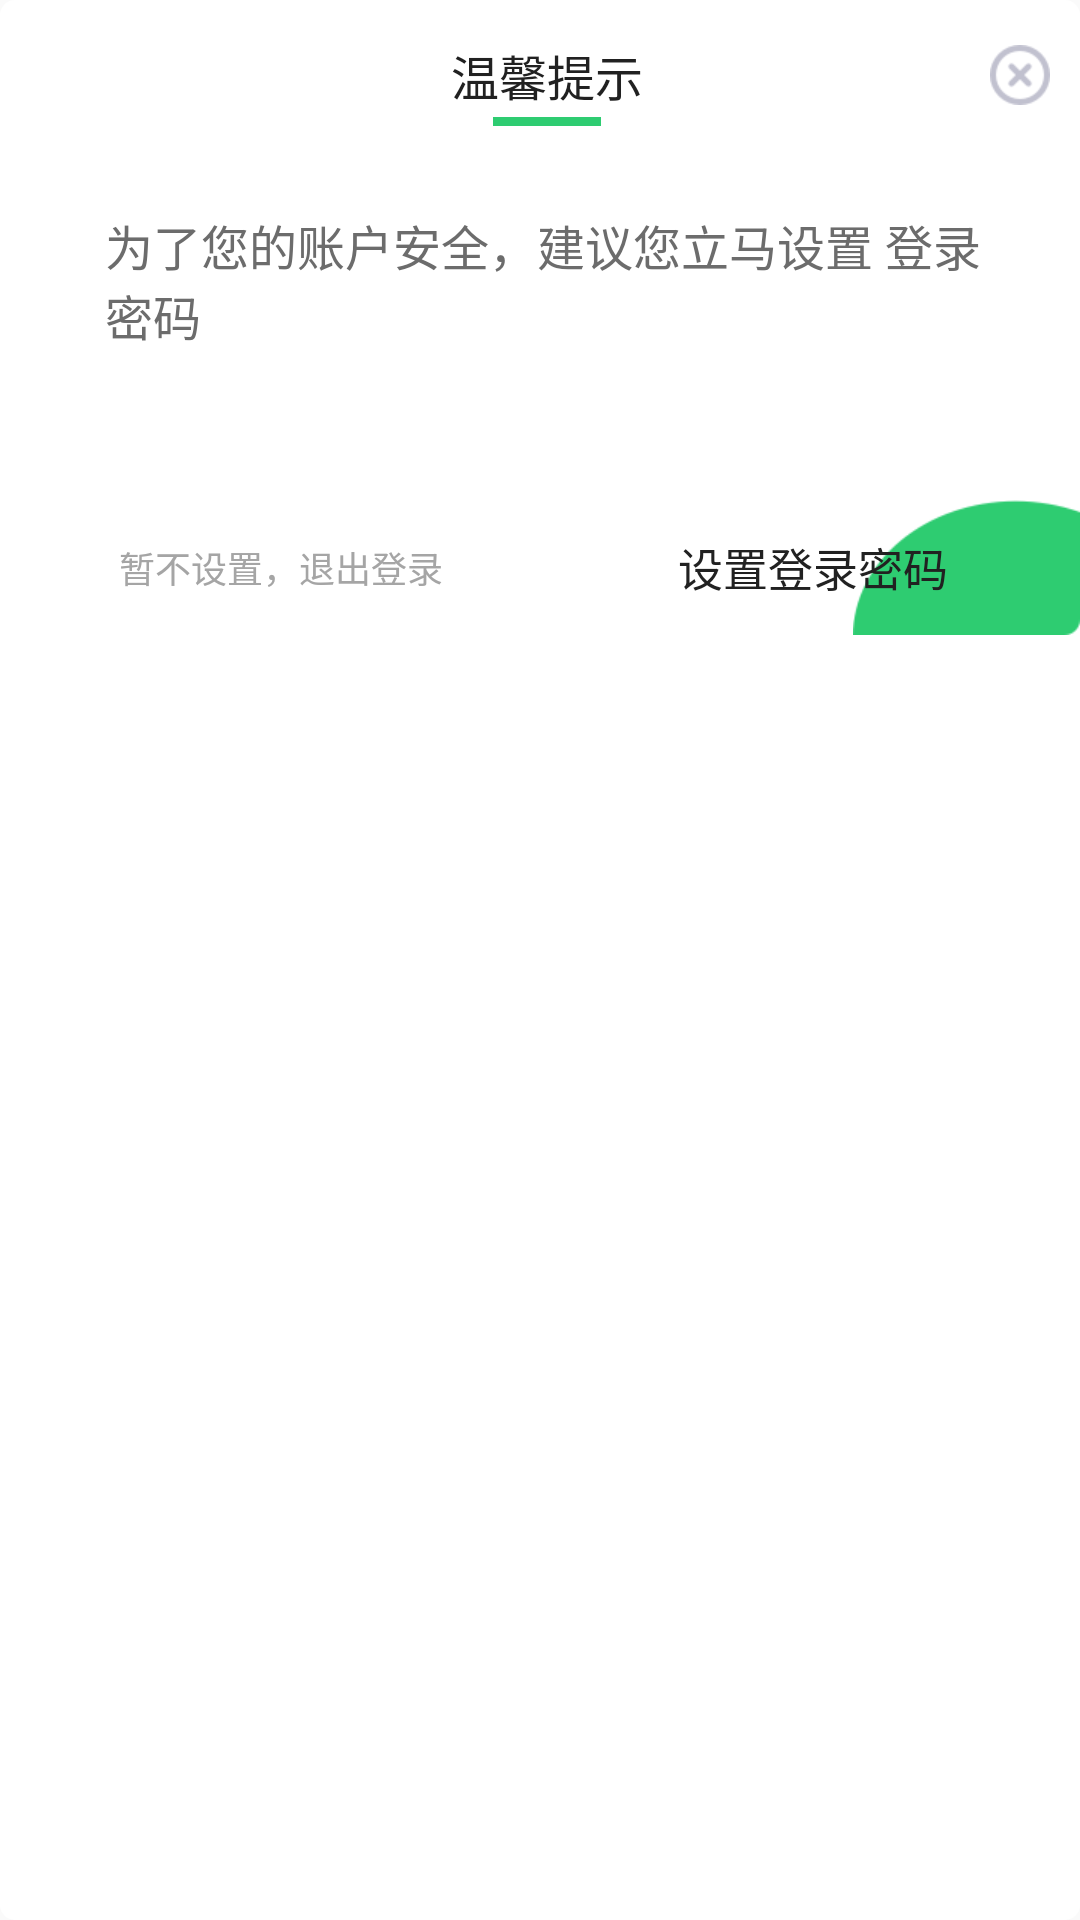

Where icons sit on this 1080 × 1920 app screen, as (x1, y1, x2, y2):
gjj dialog close: (990, 45, 1050, 105)
